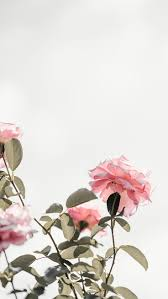flower: (56, 127, 153, 252), (2, 183, 40, 265), (3, 107, 23, 182)
